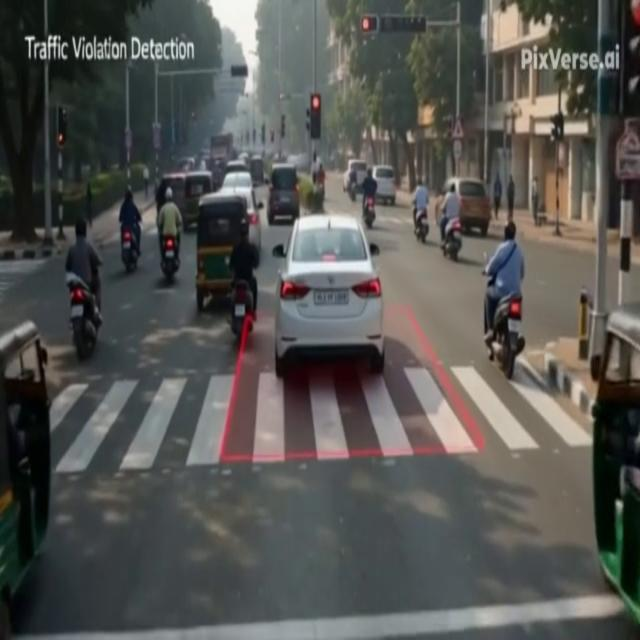car: (272, 214, 384, 377), (217, 186, 263, 256), (437, 177, 490, 236), (267, 164, 300, 224), (373, 166, 396, 205), (343, 160, 366, 191), (222, 171, 252, 188), (250, 155, 265, 187), (225, 160, 248, 174)
scooty: (487, 295, 525, 379), (230, 280, 253, 340), (442, 219, 462, 261), (414, 209, 429, 243), (363, 197, 375, 229)
traffic signal: (620, 0, 639, 117), (310, 94, 321, 140), (57, 106, 67, 148), (551, 112, 563, 142), (361, 15, 378, 33), (231, 65, 248, 78), (306, 108, 310, 131), (281, 115, 285, 138), (261, 123, 265, 145), (252, 128, 256, 144), (270, 129, 274, 143)
truck: (210, 134, 233, 161)
